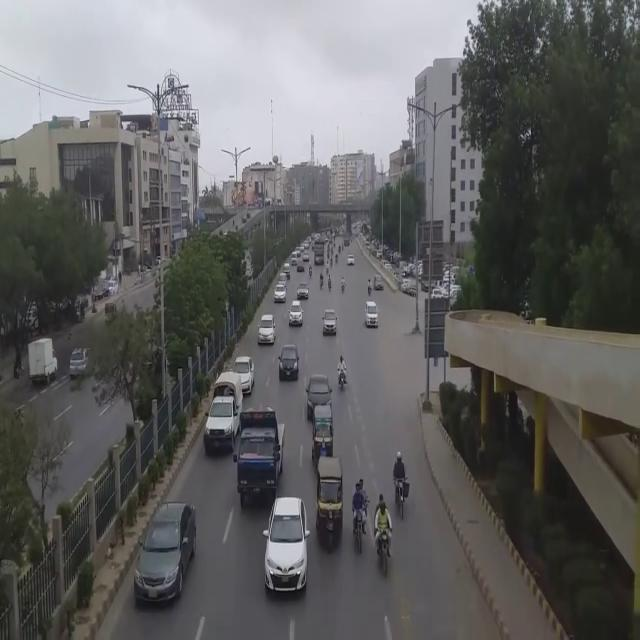car: (132, 502, 198, 605), (263, 497, 311, 594), (316, 456, 343, 518), (216, 357, 256, 396), (66, 346, 102, 382), (277, 346, 302, 384), (306, 377, 334, 410), (258, 317, 276, 346), (322, 309, 338, 335), (366, 300, 380, 328), (288, 304, 304, 326), (402, 282, 418, 298), (274, 286, 287, 304), (297, 286, 310, 301)
motorbike: (346, 468, 381, 560), (392, 443, 418, 528), (372, 489, 394, 584), (334, 354, 357, 400)
truck: (234, 415, 283, 509)
